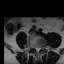CCS_normal: (36, 45, 38, 54)
LFS_stenosis: (40, 44, 42, 50)
LLS_normal: (38, 45, 40, 53)
RFS_normal: (32, 44, 34, 50)
RLS_normal: (34, 45, 36, 53)
